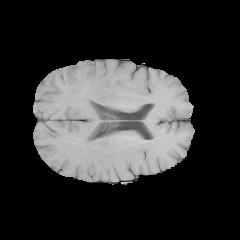glioma: (53, 64, 83, 87)
